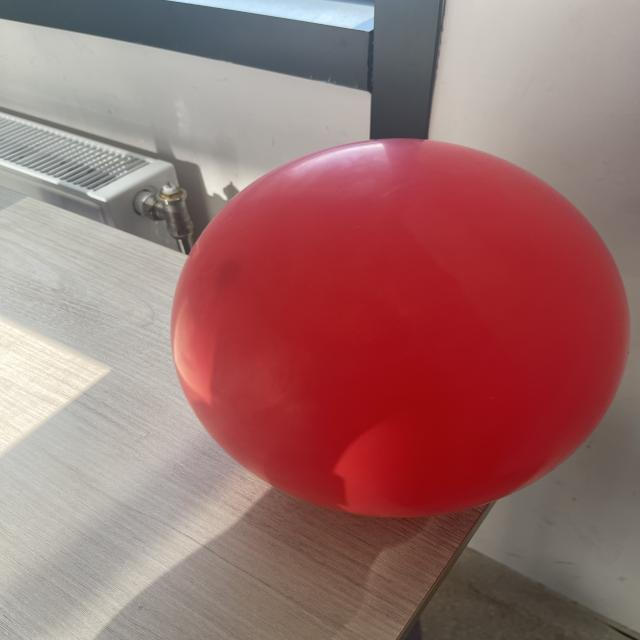balloon: (170, 139, 630, 518)
